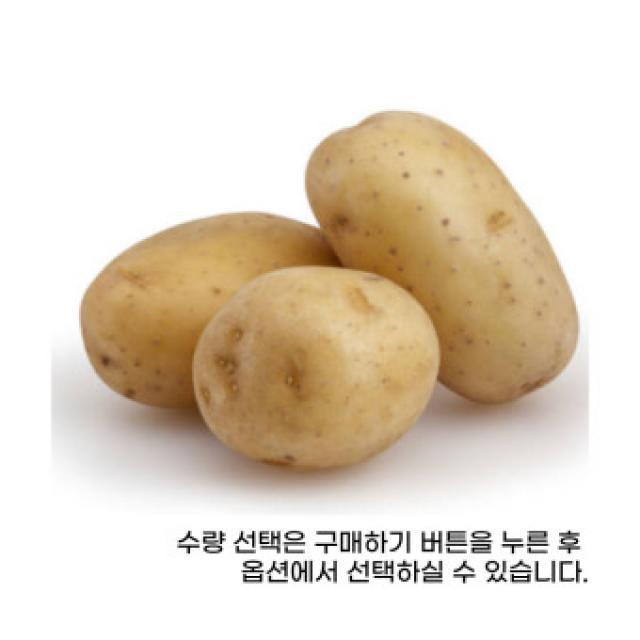potato: (304, 105, 578, 414), (76, 206, 352, 423), (194, 264, 443, 476)
